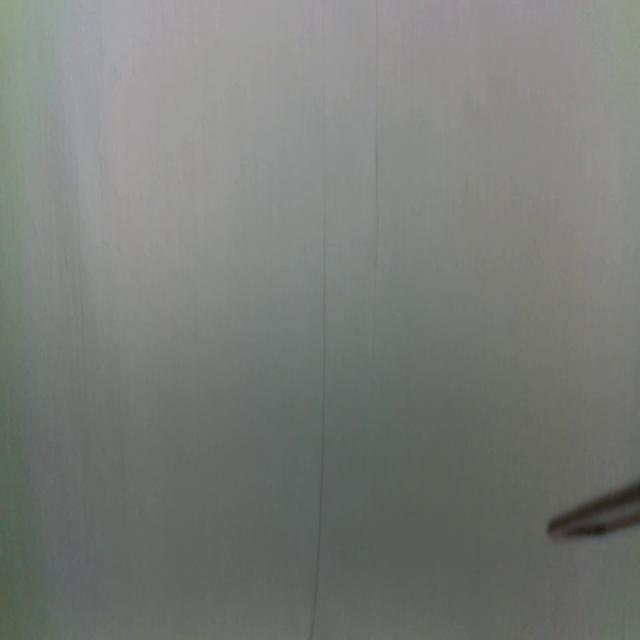crease: (307, 92, 328, 640), (371, 0, 380, 368)
